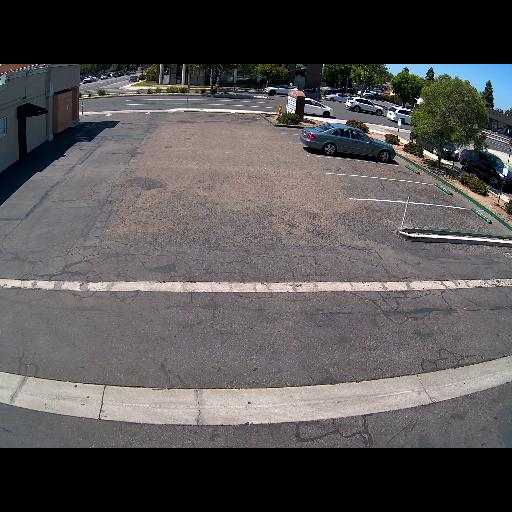car: (298, 121, 396, 163), (457, 147, 511, 192), (407, 128, 460, 160), (345, 96, 384, 117), (298, 97, 336, 118), (385, 105, 419, 124), (262, 82, 298, 96), (298, 87, 323, 102), (324, 91, 353, 103), (364, 91, 385, 101), (82, 75, 94, 83), (128, 74, 139, 82)
